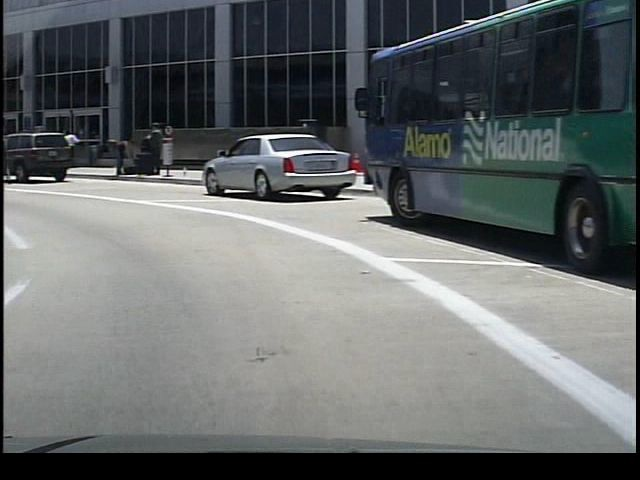person: (102, 128, 131, 182), (139, 121, 160, 176)
